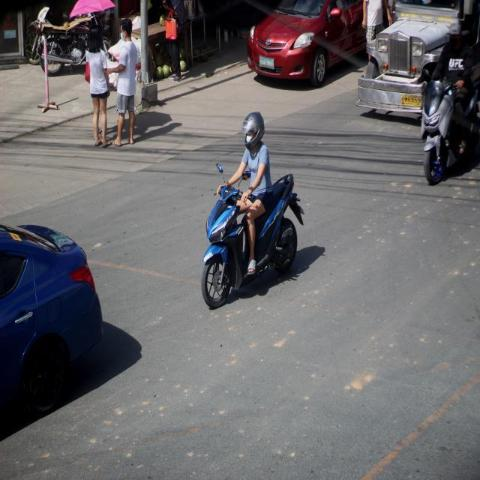car: (0, 218, 107, 396), (245, 0, 372, 82)
jeepney: (354, 0, 480, 111)
motorcycle: (200, 110, 305, 310), (412, 47, 480, 179)
